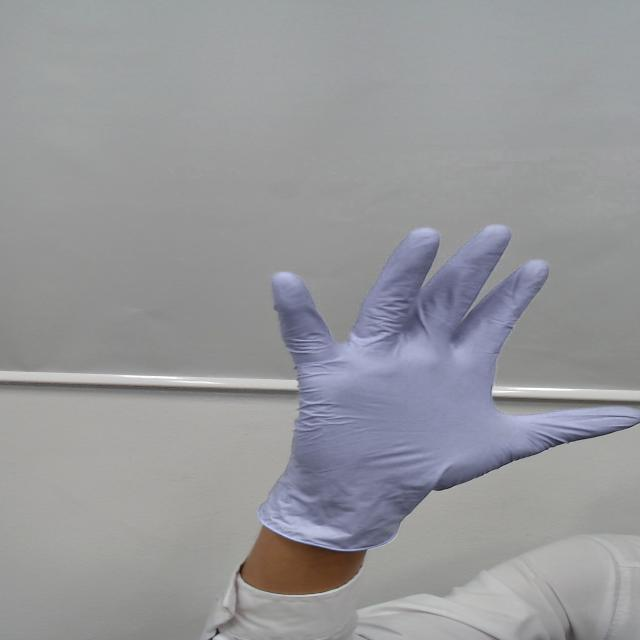glove: (251, 202, 640, 510)
